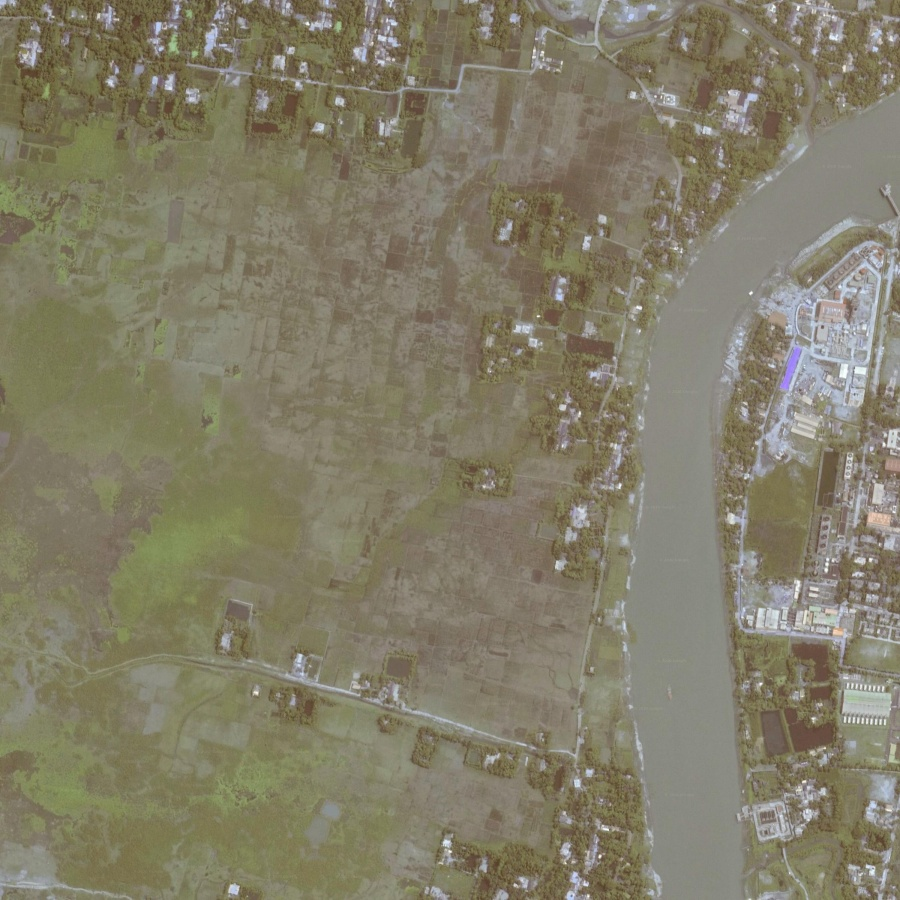PowerPlant: (807, 252, 878, 407)
